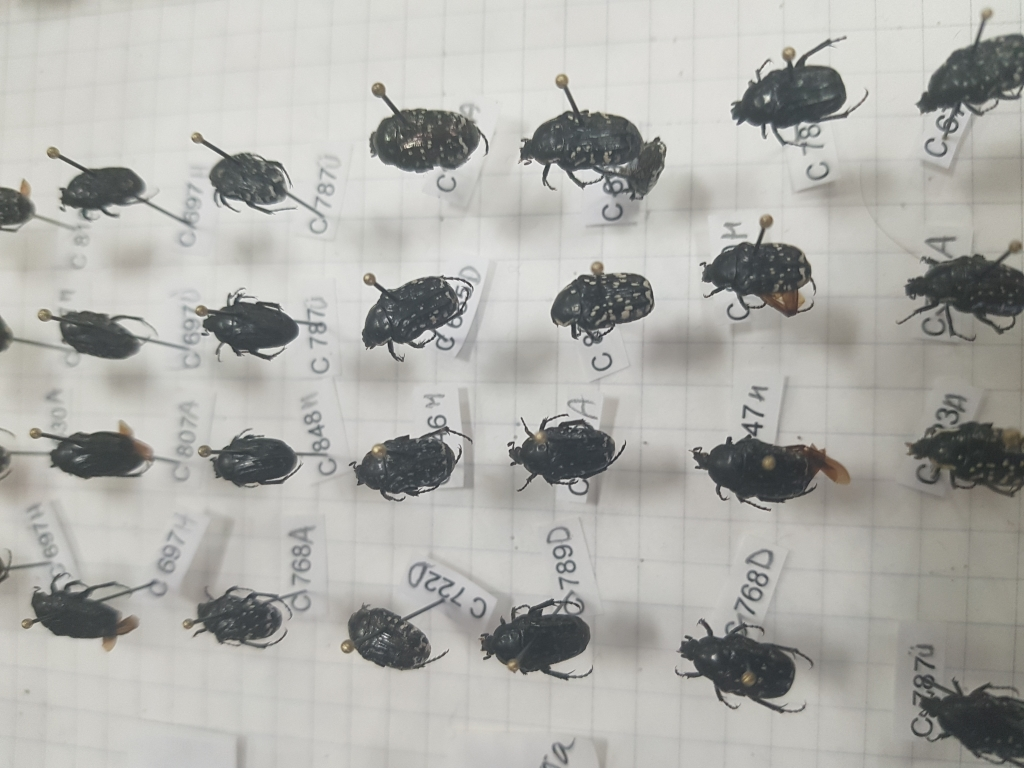Oxythyrea_albopicta: (712, 32, 882, 148), (354, 272, 471, 367), (693, 235, 819, 315), (546, 260, 654, 345)
